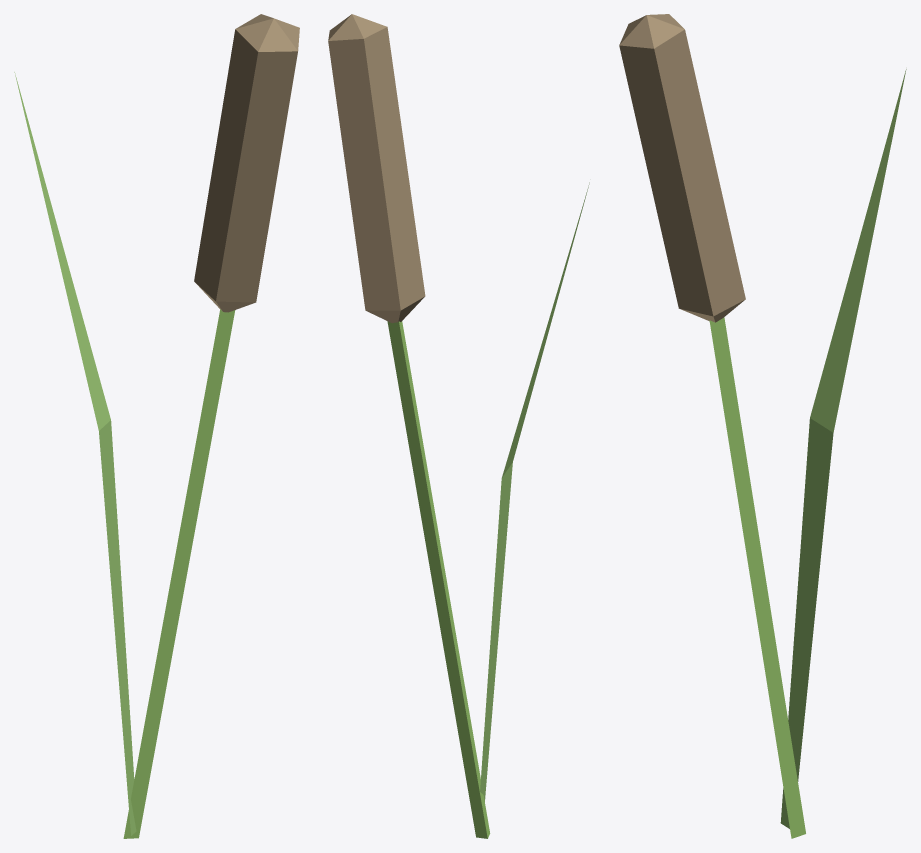
The model's file is Reed_a_04.fbx.
The picture shows the model from 3 angles, left to right: view 1: azimuth 30°, elevation 25°; view 2: azimuth 210°, elevation 25°; view 3: azimuth 270°, elevation 25°; orthographic projection. The views are drawn at different scales.
Visible parts, largest first — view 1: Reed_a_04; view 2: Reed_a_04; view 3: Reed_a_04.
Part boxes in pixels (x1,y1,x2,y2): Reed_a_04: [14, 14, 299, 838]; Reed_a_04: [328, 14, 589, 838]; Reed_a_04: [619, 14, 906, 838].
Bounding box in the file's own units: 15.38 × 79.33 × 24.2.
